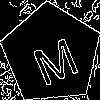M: (26, 29, 81, 87)
